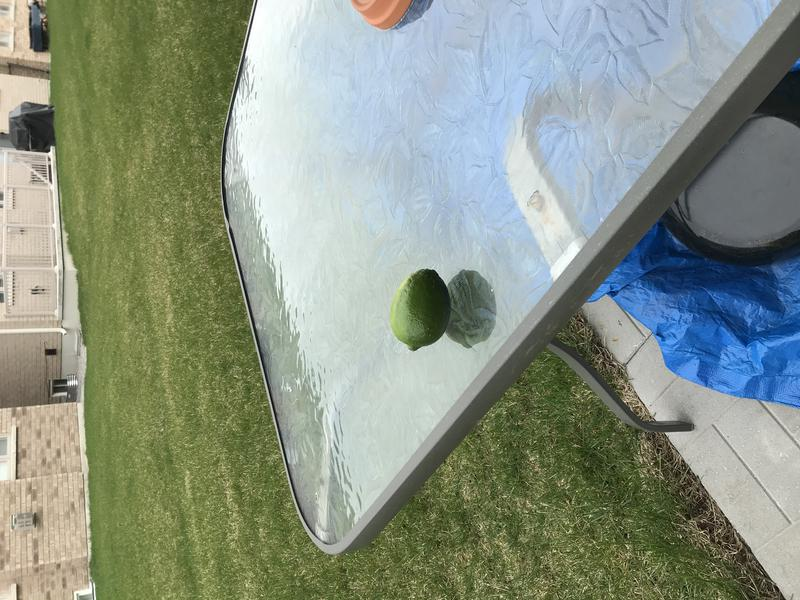lime: (381, 263, 463, 359)
